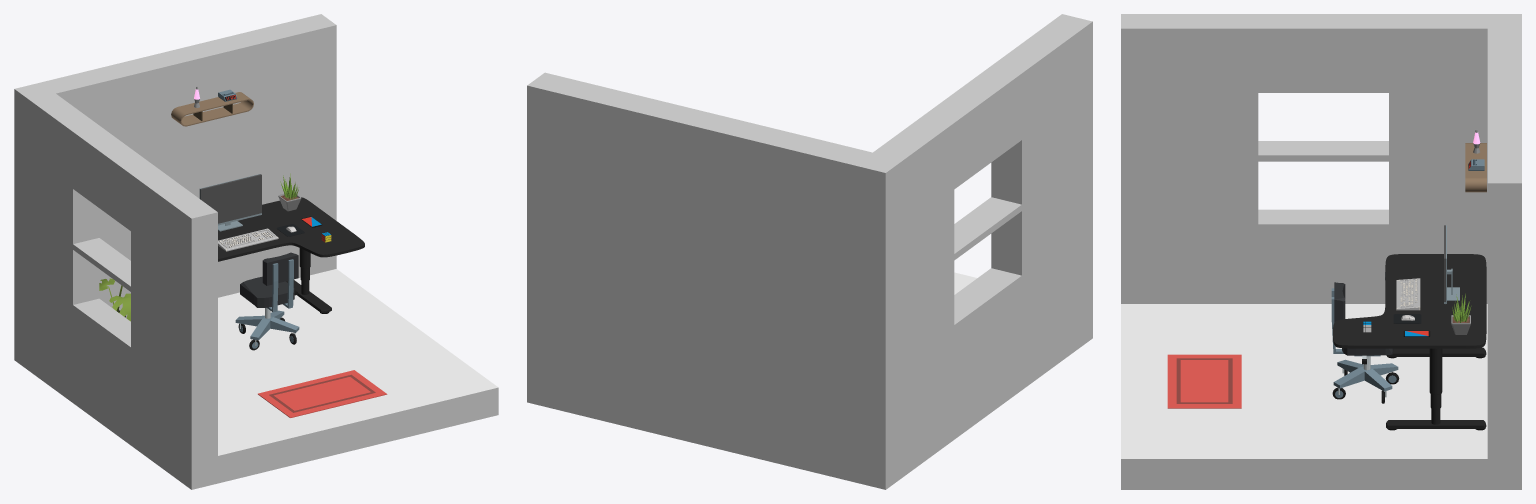
The model's file is BK-Final-del.glb.
3 views of the same model, side by side, from view 1: azimuth 30°, elevation 25°; view 2: azimuth 150°, elevation 25°; view 3: azimuth 270°, elevation 25° (orthographic). The views are drawn at different scales.
Parts seen in each view (by area): view 1: Plane, table, Chair, Mat, screen, Shelf, Keyboard, Houseplant_1; view 2: Plane; view 3: Plane, table, Mat, Chair, Shelf, Keyboard, Small Plant, screen.
Part boxes in pixels (x1,y1,x2,y2): Plane: (14, 14, 498, 489); table: (218, 197, 364, 313); Chair: (235, 252, 299, 350); Mat: (258, 370, 387, 417); screen: (199, 174, 261, 231); Shelf: (171, 92, 253, 126); Keyboard: (218, 228, 278, 251); Houseplant_1: (99, 278, 130, 321); Plane: (527, 14, 1092, 489); Plane: (1121, 14, 1521, 489); table: (1333, 254, 1486, 430); Mat: (1167, 354, 1241, 408); Chair: (1331, 282, 1399, 403); Shelf: (1465, 143, 1486, 192); Keyboard: (1396, 278, 1420, 310); Small Plant: (1451, 293, 1471, 334); screen: (1444, 225, 1459, 304).
Size of the model in its own units: 3.69 by 3.12 by 3.69.
Materials: 43 (2 with a texture image).
